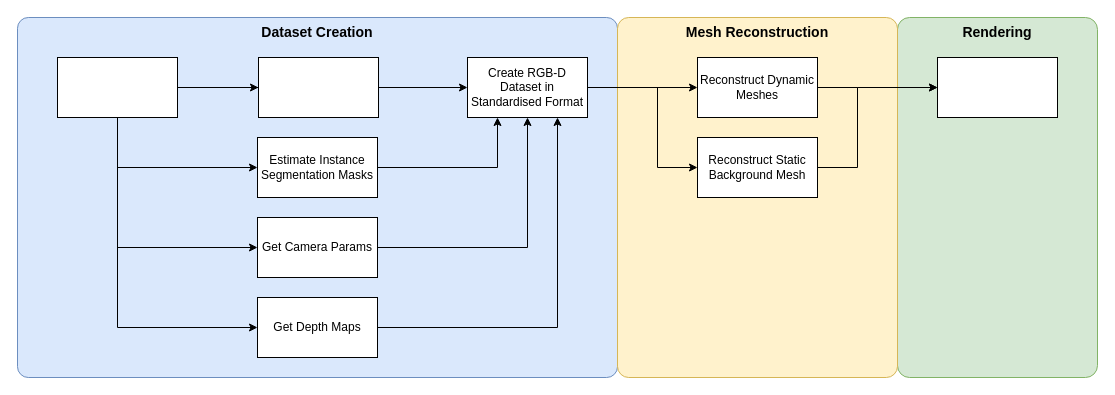
Image size: 1115x395. Some labels were removed from this diagram. Here are the shapes that lost their labels. From the top down, the centre of each, then its label:
At (117,87): "Read Raw Dataset".
At (318,87): "Extract RGB Frames and Metadata".
At (997,87): "Render in WebXR".
